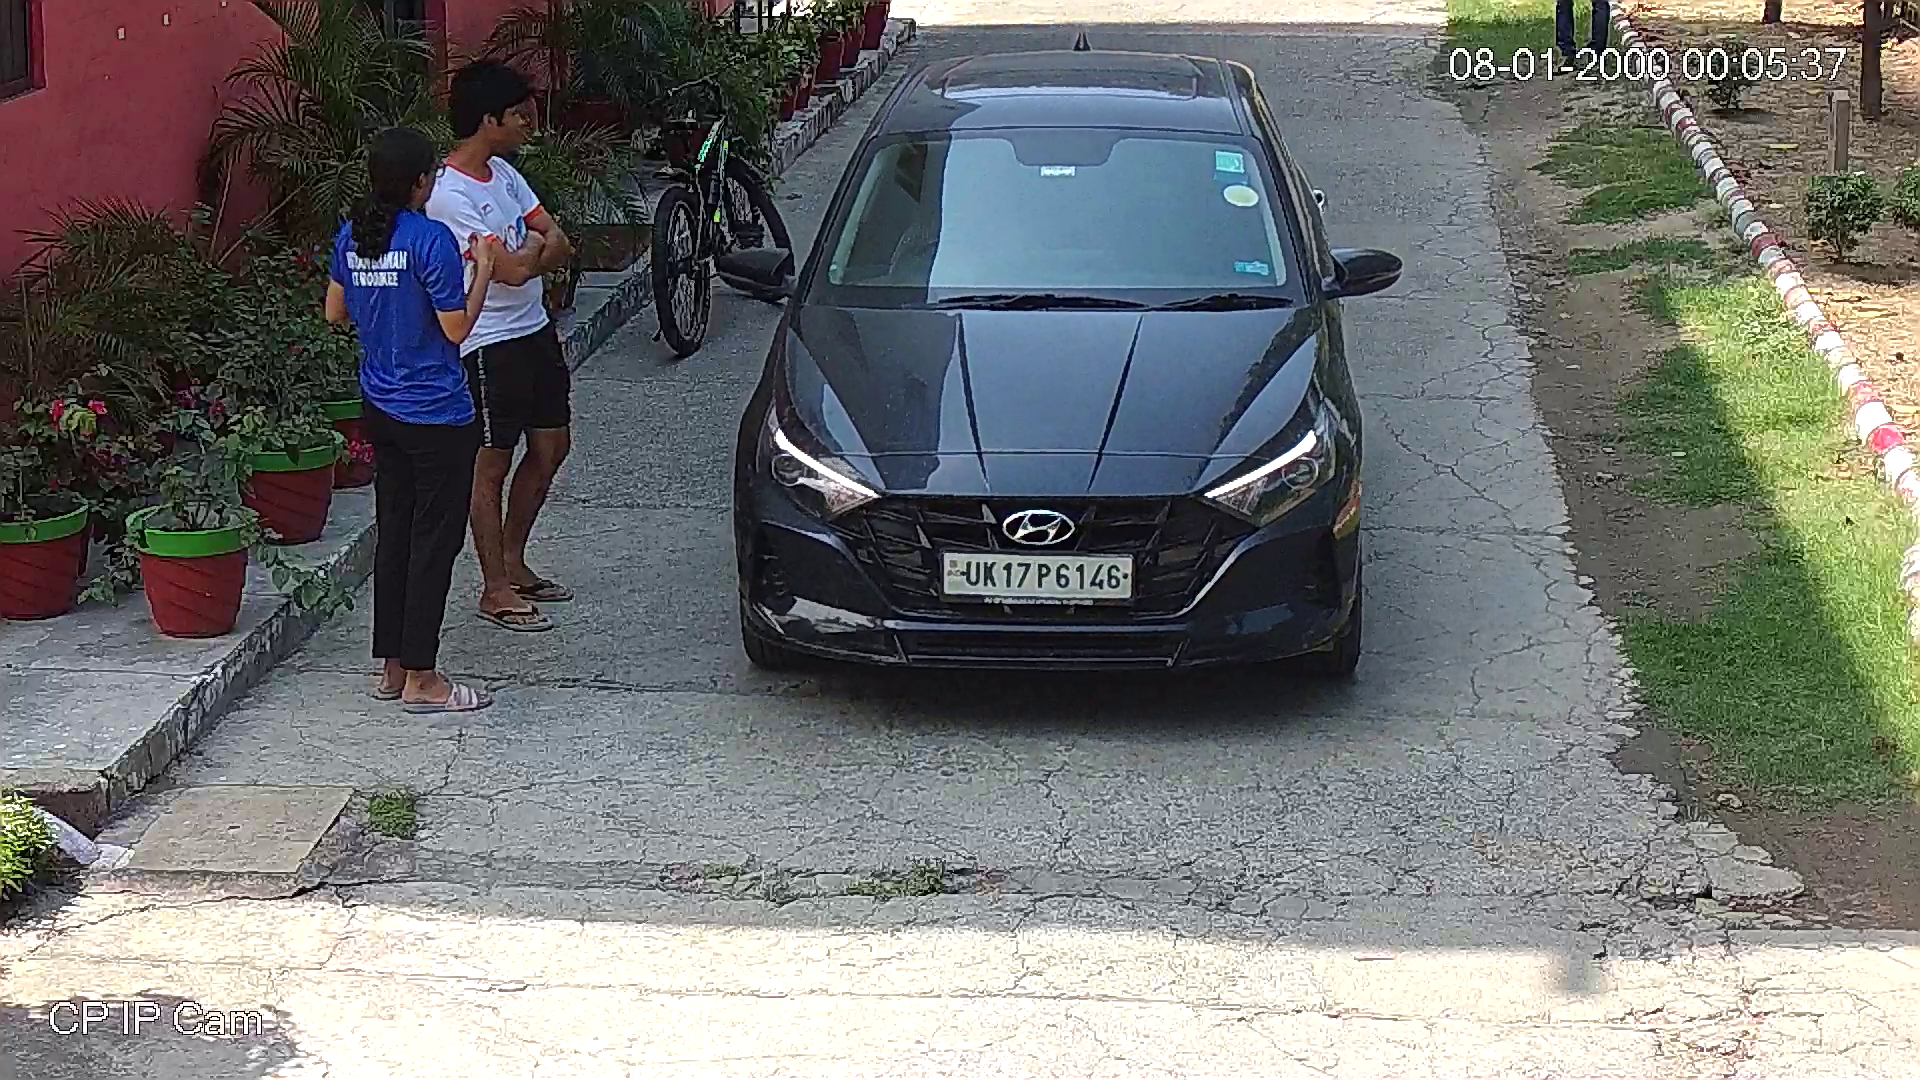plate: (935, 544, 1138, 605)
